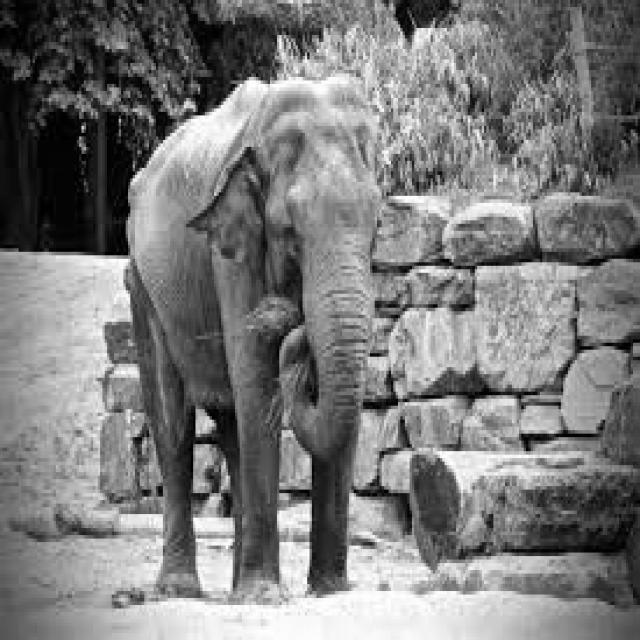Elephant: (121, 70, 382, 598)
